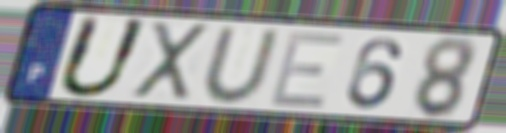6: (345, 35, 405, 111)
8: (411, 32, 479, 122)
E: (265, 29, 349, 112)
U: (52, 12, 154, 101), (200, 25, 284, 106)
X: (129, 19, 212, 102)
